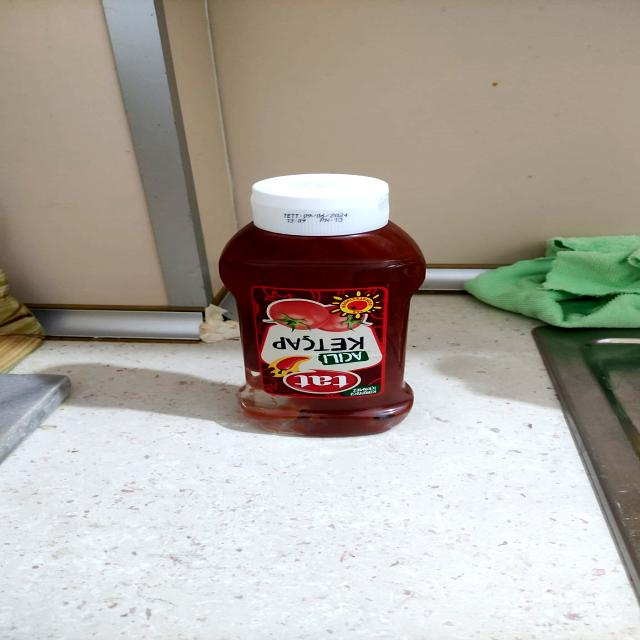ketchup: (198, 168, 444, 444)
